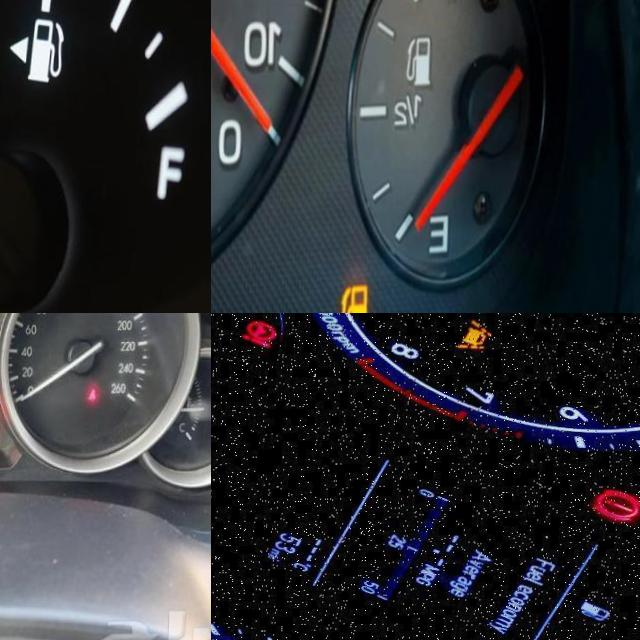Electronic Power Steering: (231, 313, 299, 358)
Seat Belt: (89, 388, 101, 403)
